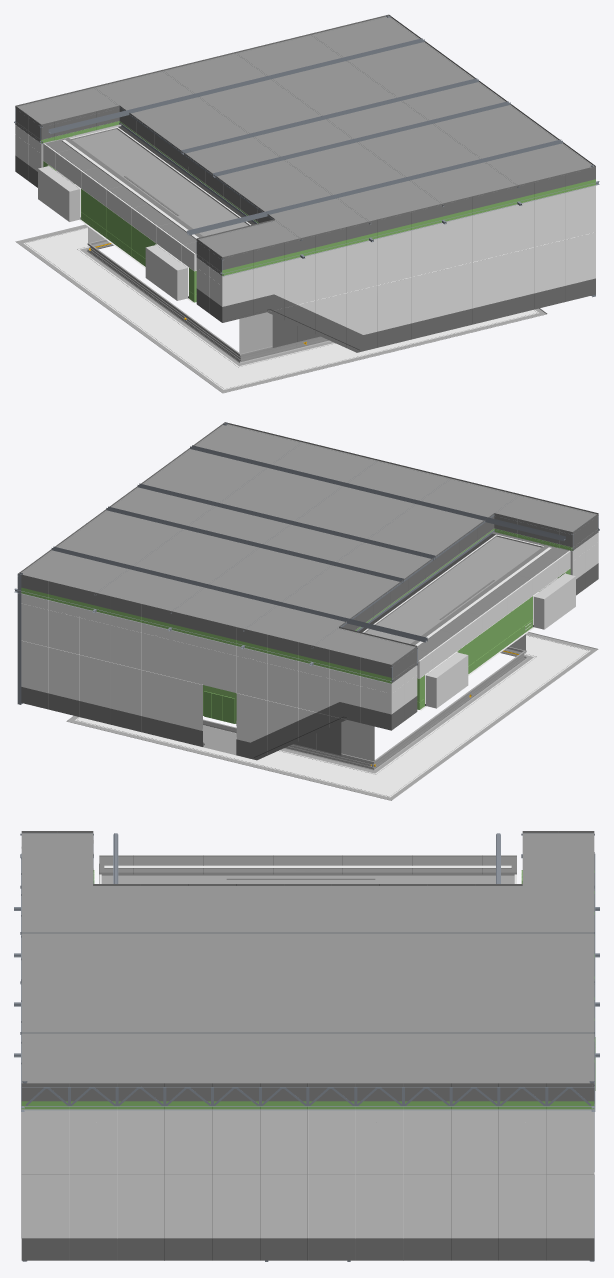
3 renders of one model, top to bottom at view 1: azimuth 30°, elevation 25°; view 2: azimuth 150°, elevation 25°; view 3: azimuth 270°, elevation 25°, orthographic. The views are drawn at different scales.
Parts seen in each view (by area): view 1: SM_H_Building_FutureTech_HBlue_01_InterWall_03; view 2: SM_H_Building_FutureTech_HBlue_01_InterWall_03; view 3: SM_H_Building_FutureTech_HBlue_01_InterWall_03.
Part boxes in pixels (bbox=[...]): SM_H_Building_FutureTech_HBlue_01_InterWall_03: bbox=[14, 14, 599, 393]; SM_H_Building_FutureTech_HBlue_01_InterWall_03: bbox=[14, 422, 599, 800]; SM_H_Building_FutureTech_HBlue_01_InterWall_03: bbox=[14, 831, 599, 1261].
Size of the model in its own units: 1132 by 1198 by 459.
